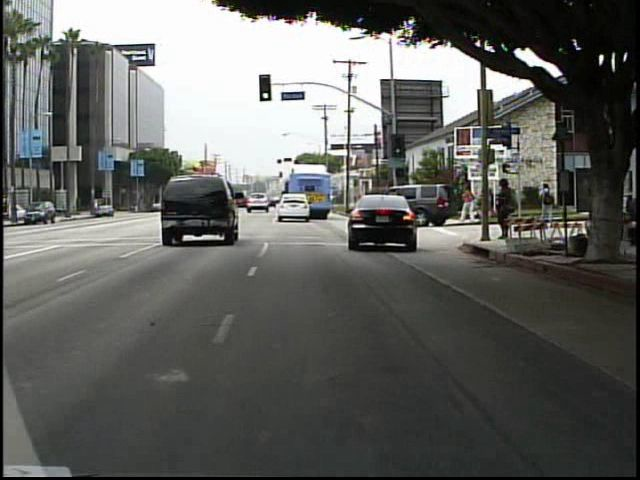person: (493, 174, 515, 247), (460, 181, 479, 227), (539, 180, 557, 221), (480, 179, 495, 224)
